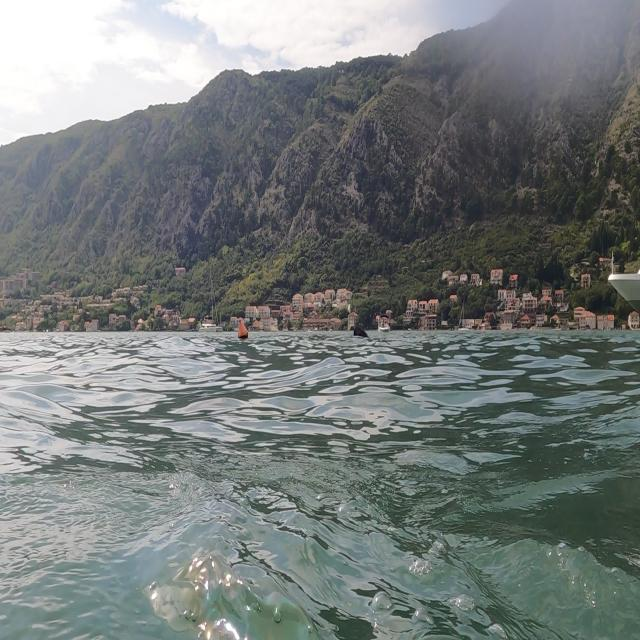boat: (604, 253, 640, 340), (197, 263, 224, 340), (351, 319, 372, 347)
buoy: (235, 316, 253, 344)
